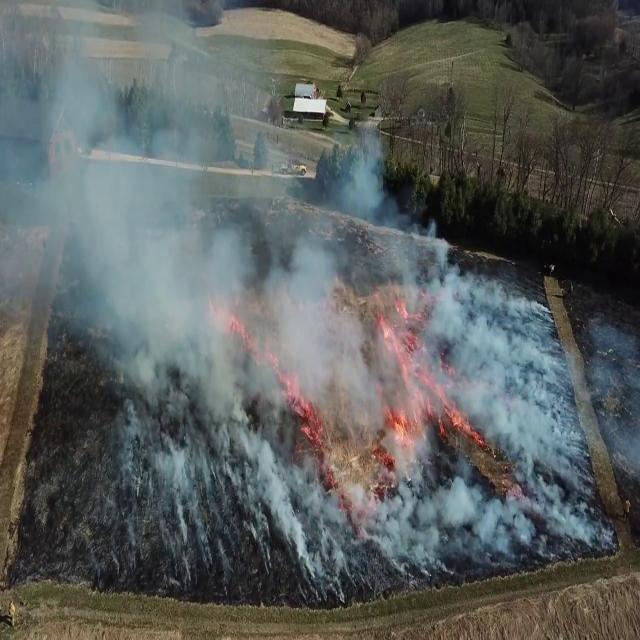Fire: (288, 407, 374, 513), (357, 258, 428, 370)
Smoke: (1, 16, 526, 583)
